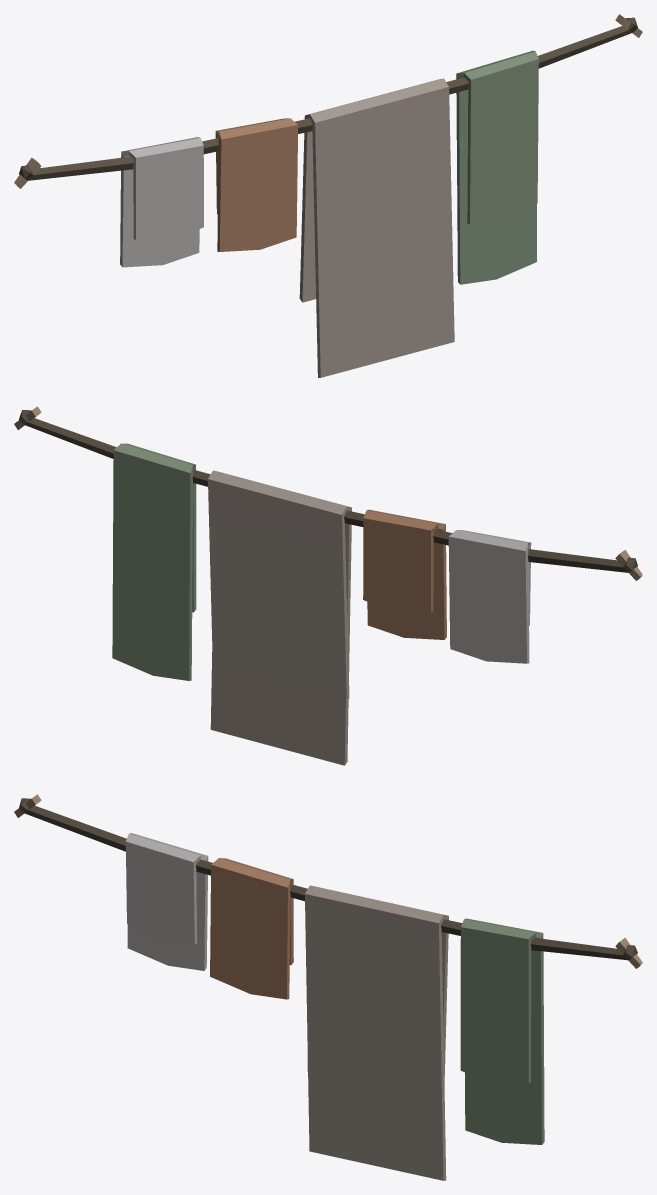
File: SM_Prop_Washingline_Small_03.fbx
The picture shows the model from 3 angles, top to bottom: view 1: azimuth 30°, elevation 25°; view 2: azimuth 150°, elevation 25°; view 3: azimuth 330°, elevation 25°; orthographic projection.
Parts seen in each view (by area): view 1: SM_Prop_Washingline_Small_03; view 2: SM_Prop_Washingline_Small_03; view 3: SM_Prop_Washingline_Small_03.
Boxes of the visible parts, x1,y1,x2,y2 form: SM_Prop_Washingline_Small_03: (14, 14, 642, 377); SM_Prop_Washingline_Small_03: (14, 406, 642, 765); SM_Prop_Washingline_Small_03: (14, 794, 642, 1180).
Size of the model in its own units: 396 by 172 by 11.91.
